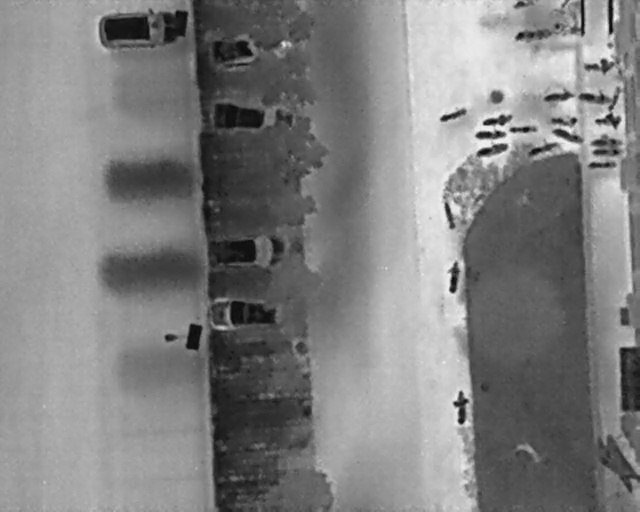Bicycle: (523, 137, 563, 161), (472, 138, 512, 162), (511, 24, 554, 45), (548, 123, 585, 146), (576, 85, 612, 106), (443, 257, 463, 294), (437, 103, 470, 125), (439, 197, 459, 233), (452, 388, 470, 425), (542, 85, 575, 105), (548, 110, 579, 131), (584, 54, 616, 74), (480, 111, 515, 129), (604, 84, 624, 114), (593, 113, 623, 131), (474, 127, 508, 142), (590, 144, 626, 158), (589, 134, 623, 148), (506, 122, 540, 136), (587, 157, 619, 170), (511, 0, 536, 10)
Car: (204, 231, 303, 275), (97, 6, 192, 51), (206, 29, 301, 74), (207, 96, 302, 140), (205, 292, 304, 333)
